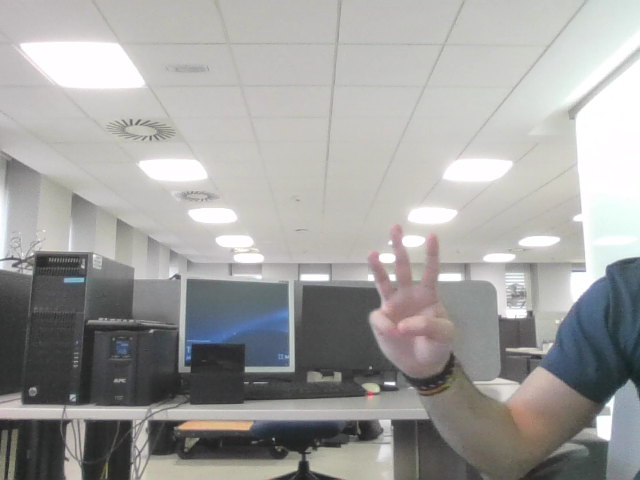3Dedos: (376, 237, 441, 348)
